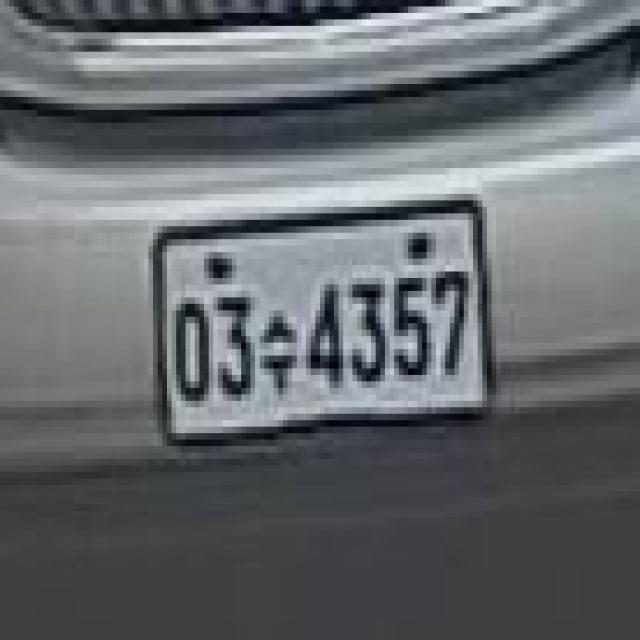illegal_plate: (149, 194, 497, 456)
